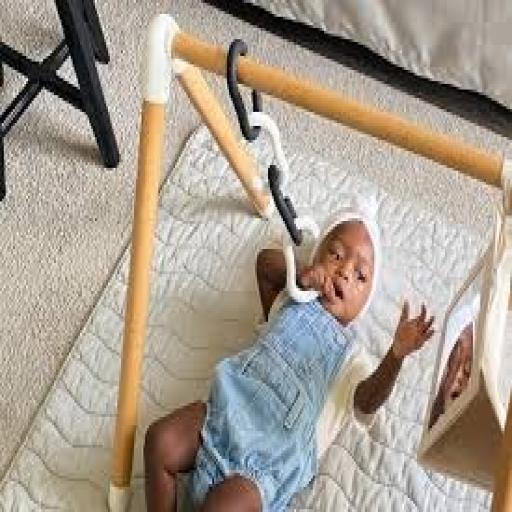baby: (144, 199, 433, 511)
